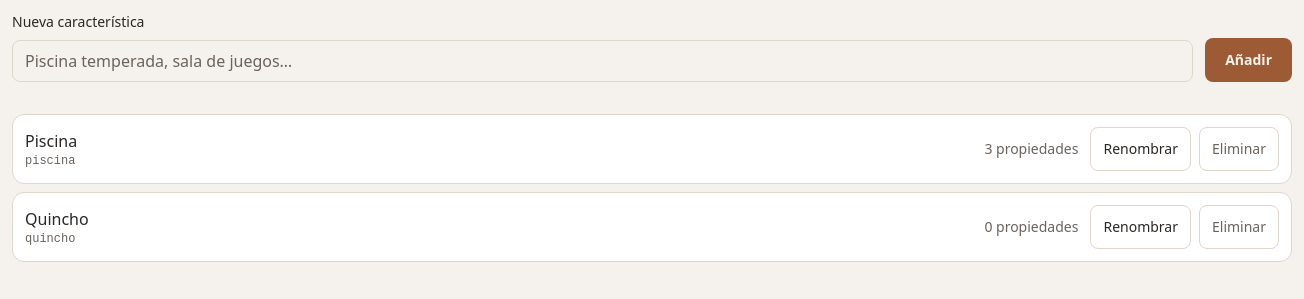
Scenario: FeatureManager › muestra el motivo que da el servidor
The width and height of the screenshot is (1304, 299).
Type "piscina" into the field labelled "Nueva característica" at [603, 61], box [12,40,1193,82]
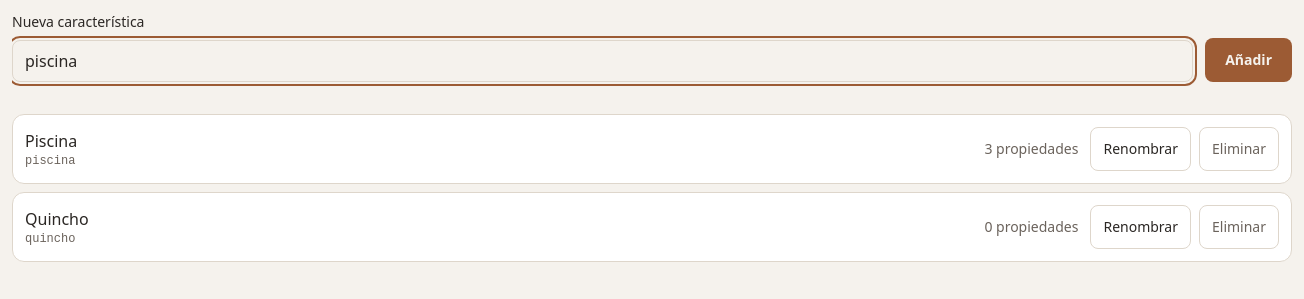
Click the button "Añadir" at [1249, 60], box [1205,38,1292,82]
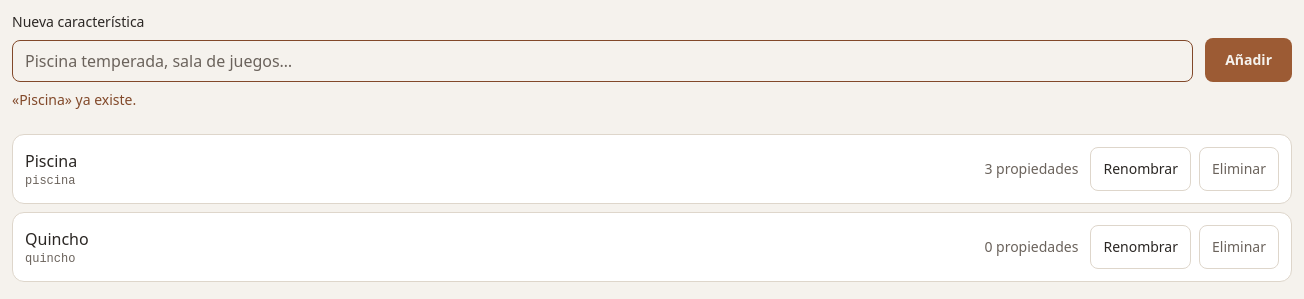
Result: the text "«Piscina» ya existe." is shown at [12,90,136,109]
